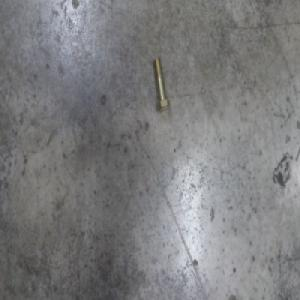Bolt: (152, 55, 170, 113)
